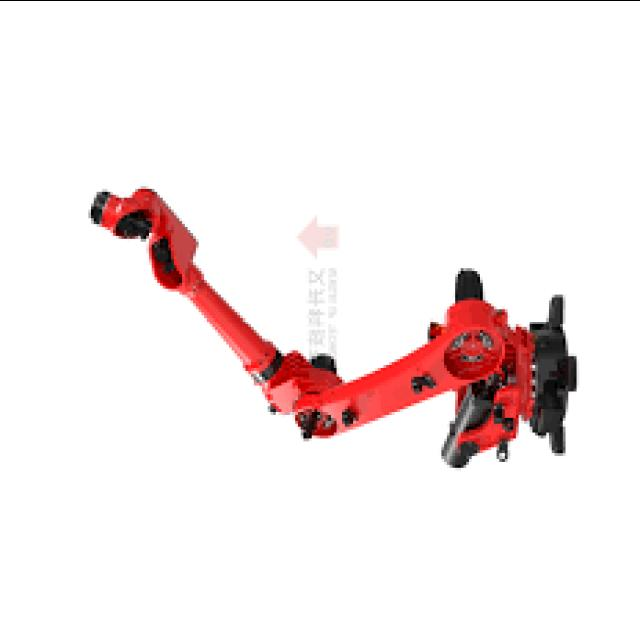Robotic-arm: (81, 182, 582, 476)
